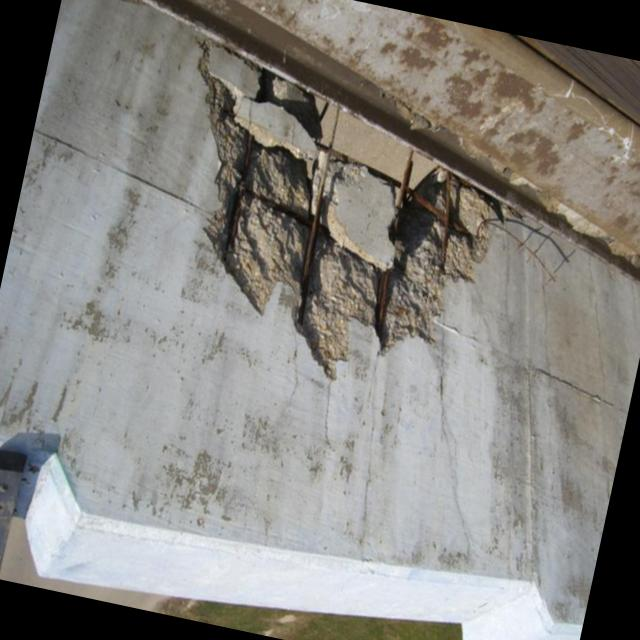spalling: (196, 40, 507, 379)
